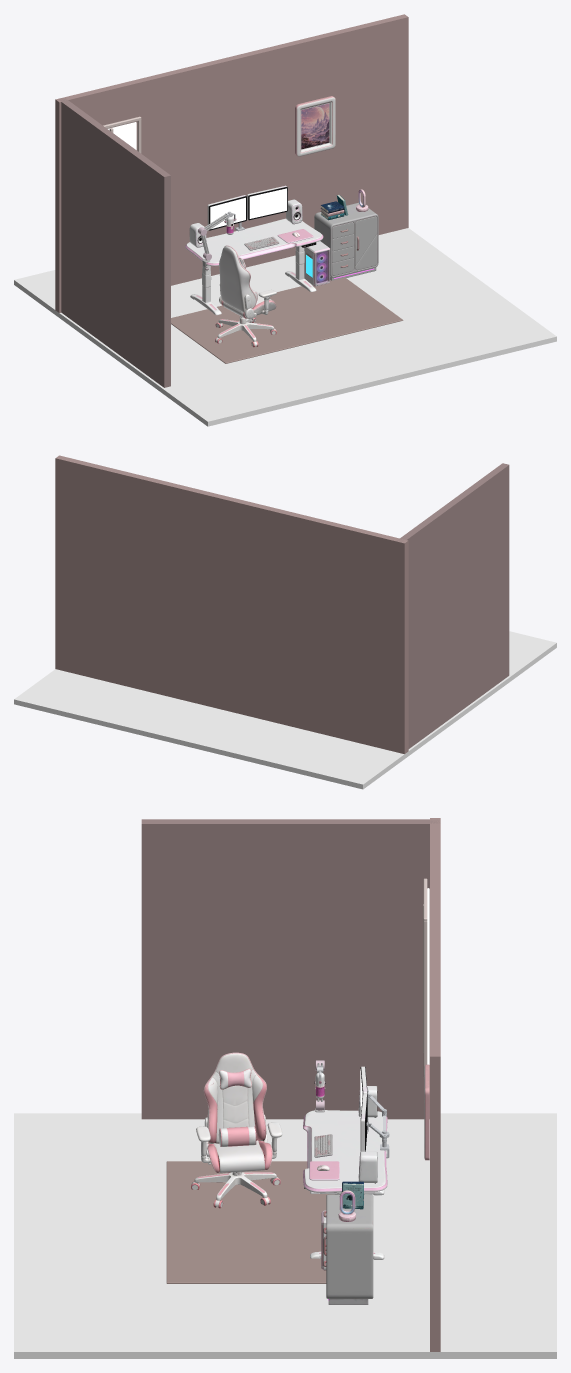
The picture shows the model from 3 angles, top to bottom: view 1: azimuth 30°, elevation 25°; view 2: azimuth 150°, elevation 25°; view 3: azimuth 270°, elevation 25°; orthographic projection. The views are drawn at different scales.
Parts seen in each view (by area): view 1: Architecture_Back_Wall, Architecture_Floor, Architecture_Left_Wall, Decor_Rug, GEO_Desk_Moving_Top, GEO_Chair_Swivel_Upper, GEO_Cabinet_Body, GEO_WallArt_ImageBoard, GEO_Door_Right_Front, GEO_WallArt_Frame, 04-pc-tower_mesh_01, Screen_Right (+3 smaller); view 2: Architecture_Back_Wall, Architecture_Left_Wall, Architecture_Floor; view 3: Architecture_Floor, Architecture_Left_Wall, Decor_Rug, GEO_Chair_Swivel_Upper, Architecture_Back_Wall, GEO_Cabinet_Body, GEO_Desk_Moving_Top, GEO_Chair_Static_Base, Window_Frame_V.001, GEO_Chair_Lumbar_Detachable.
Boxes of the visible parts, box(x1,y1,x2,y2) form: Architecture_Back_Wall: box(55, 14, 408, 312); Architecture_Floor: box(14, 228, 556, 426); Architecture_Left_Wall: box(58, 98, 170, 387); Decor_Rug: box(171, 277, 403, 363); GEO_Desk_Moving_Top: box(185, 218, 323, 274); GEO_Chair_Swivel_Upper: box(219, 245, 276, 321); GEO_Cabinet_Body: box(314, 202, 378, 280); GEO_WallArt_ImageBoard: box(301, 103, 329, 149); GEO_Door_Right_Front: box(355, 216, 377, 270); GEO_WallArt_Frame: box(295, 96, 335, 156); 04-pc-tower_mesh_01: box(304, 241, 330, 286); Screen_Right: box(249, 188, 286, 218); Architecture_Back_Wall: box(55, 455, 408, 753); Architecture_Left_Wall: box(396, 463, 509, 748); Architecture_Floor: box(14, 631, 556, 789); Architecture_Floor: box(14, 1113, 556, 1358); Architecture_Left_Wall: box(141, 819, 440, 1119); Decor_Rug: box(166, 1161, 334, 1283); GEO_Chair_Swivel_Upper: box(196, 1052, 282, 1173); Architecture_Back_Wall: box(430, 818, 440, 1351); GEO_Cabinet_Body: box(326, 1194, 373, 1304); GEO_Desk_Moving_Top: box(303, 1110, 387, 1194); GEO_Chair_Static_Base: box(191, 1172, 280, 1208); Window_Frame_V.001: box(423, 921, 427, 1075); GEO_Chair_Lumbar_Detachable: box(218, 1126, 256, 1146).
Size of the model in its own units: 5.2 by 3.07 by 5.
35 materials, 17 textured.
